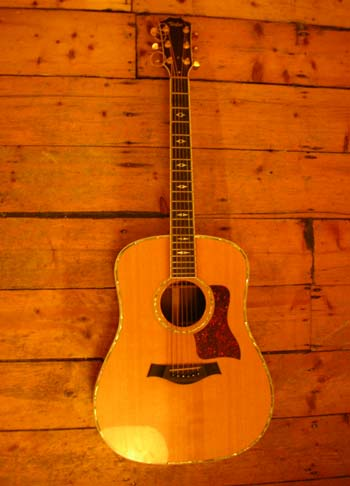guitar: (92, 15, 275, 467)
